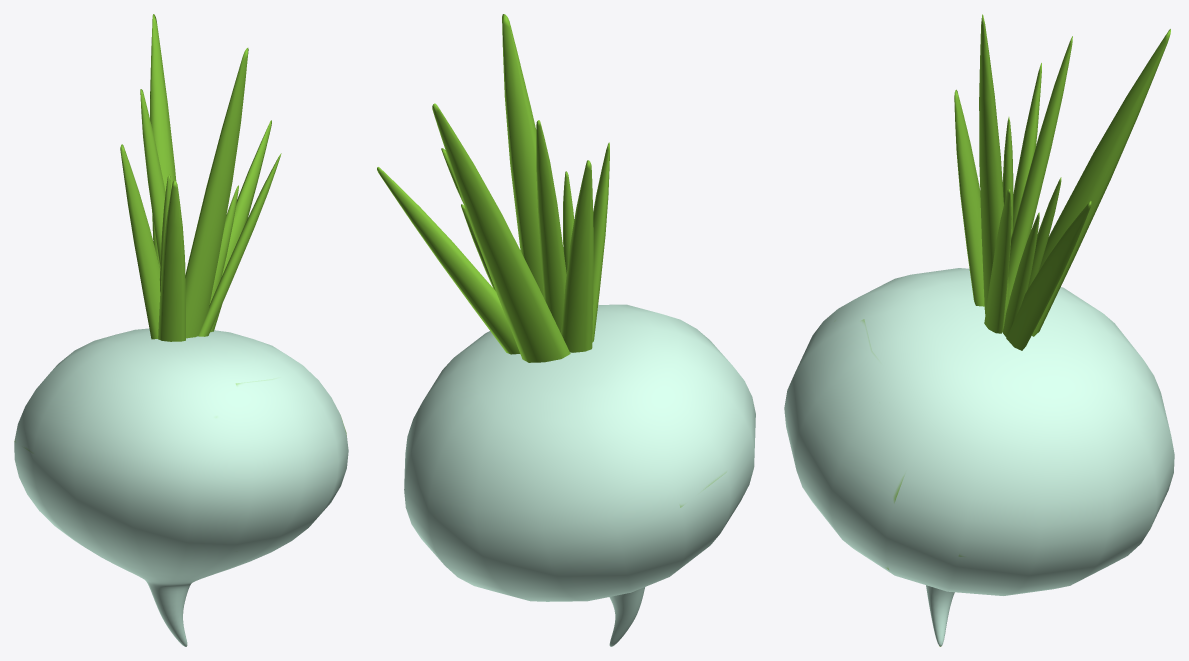
The model's file is Cipolla.fbx.
3 views of the same model, side by side, from view 1: azimuth 30°, elevation 25°; view 2: azimuth 150°, elevation 25°; view 3: azimuth 270°, elevation 25° (orthographic). The views are drawn at different scales.
Visible parts, largest first — view 1: Beetroot.047; view 2: Beetroot.047; view 3: Beetroot.047.
Part boxes in pixels (bbox=[...]): Beetroot.047: bbox=[14, 14, 348, 646]; Beetroot.047: bbox=[377, 14, 755, 646]; Beetroot.047: bbox=[784, 14, 1174, 646].
Bounding box in the file's own units: 6.66 × 12.72 × 6.63.
